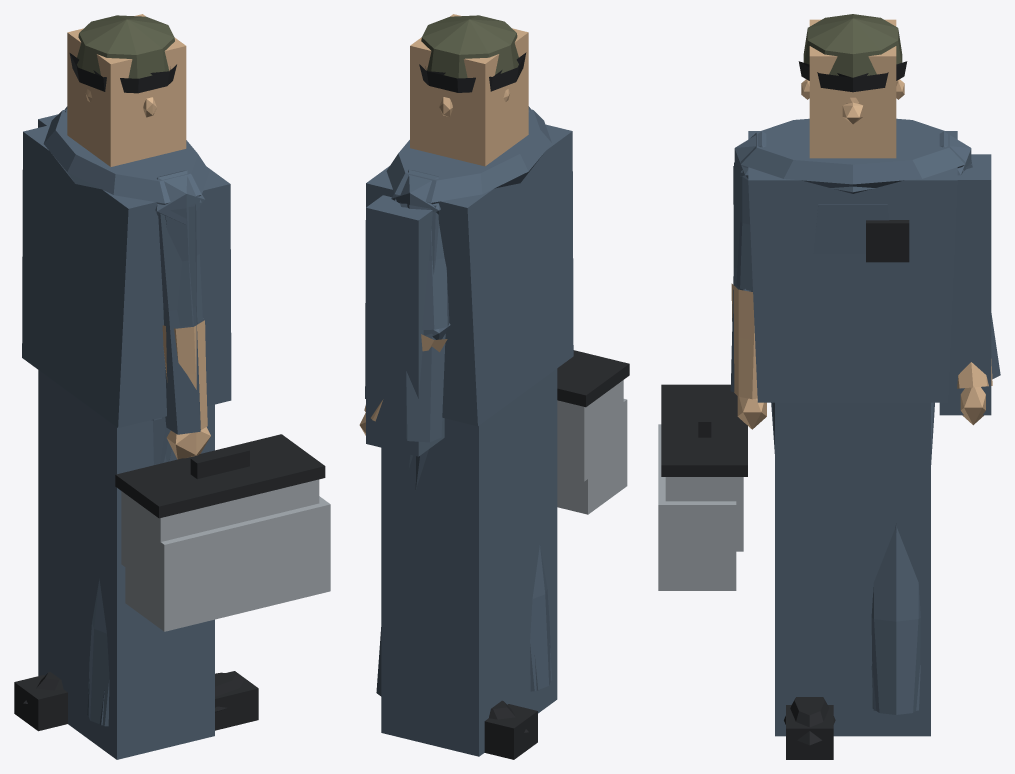
The model's file is neutral_technician.glb.
3 views of the same model, side by side, from view 1: azimuth 30°, elevation 25°; view 2: azimuth 150°, elevation 25°; view 3: azimuth 270°, elevation 25° (orthographic).
Parts seen in each view (by area): view 1: arm_r (×3), torso (×3), leg_l (×2), head (×2), leg_r (×2); view 2: leg_l (×3), torso (×3), arm_l (×3), head (×2), arm_r (×2), leg_r; view 3: torso (×3), leg_l (×2), arm_r (×3), head (×2), arm_l (×2), leg_r (×2).
Part boxes in pixels (bbox=[...]): arm_r (×3): bbox=[115, 170, 330, 631]; torso (×3): bbox=[22, 109, 231, 427]; leg_l (×2): bbox=[14, 370, 214, 759]; head (×2): bbox=[67, 14, 186, 166]; leg_r (×2): bbox=[87, 417, 258, 730]; leg_l (×3): bbox=[376, 368, 557, 759]; torso (×3): bbox=[365, 109, 573, 426]; arm_l (×3): bbox=[359, 169, 450, 456]; head (×2): bbox=[410, 14, 528, 166]; arm_r (×2): bbox=[528, 106, 629, 514]; leg_r: bbox=[530, 545, 550, 691]; torso (×3): bbox=[740, 118, 965, 402]; leg_l (×2): bbox=[775, 402, 934, 736]; arm_r (×3): bbox=[658, 131, 766, 590]; head (×2): bbox=[798, 14, 907, 158]; arm_l (×2): bbox=[939, 131, 992, 425]; leg_r (×2): bbox=[771, 402, 835, 759].
Size of the model in its own units: 0.5042 by 1.77 by 0.7914.
